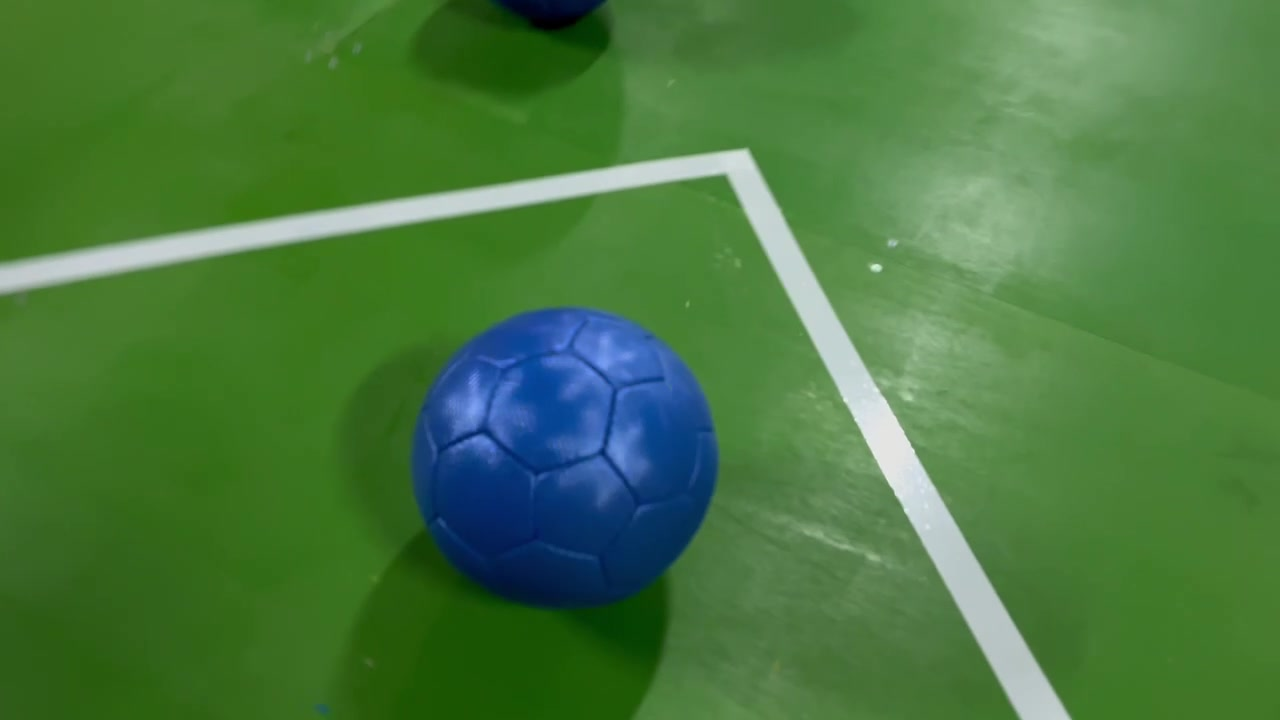blue: (411, 294, 720, 626)
